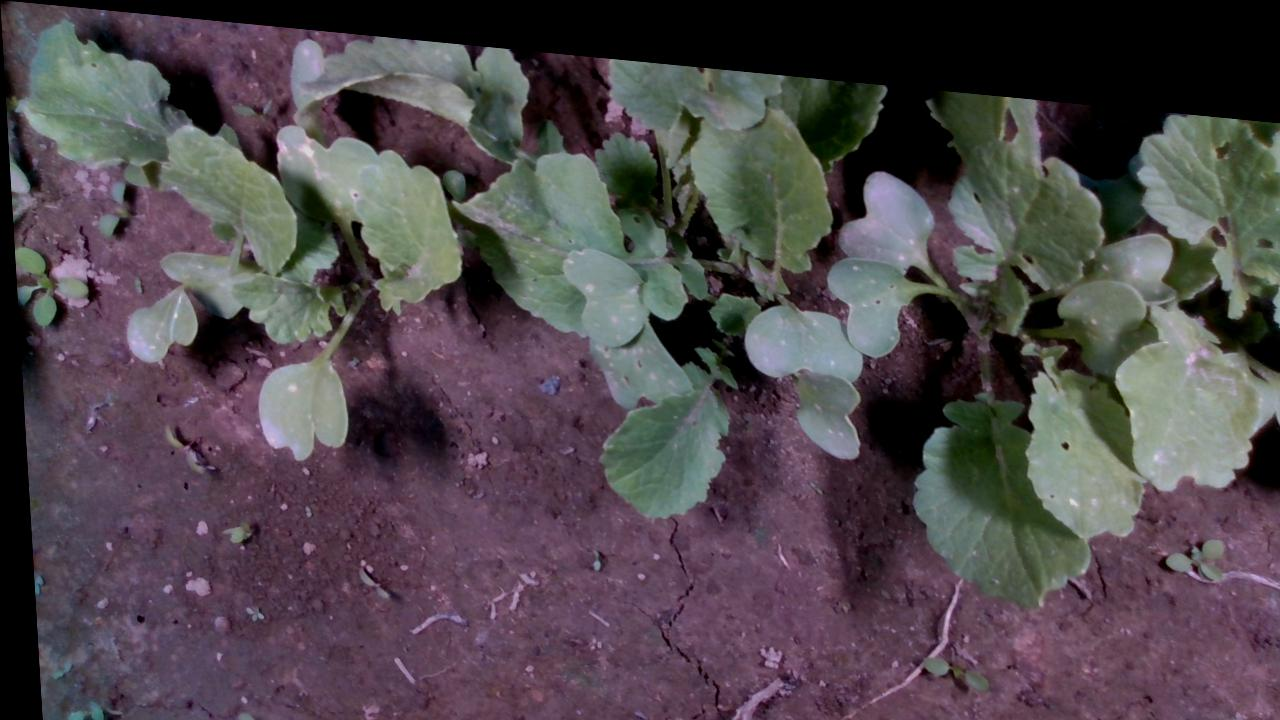weed: (1154, 506, 1228, 561), (906, 629, 988, 674)
